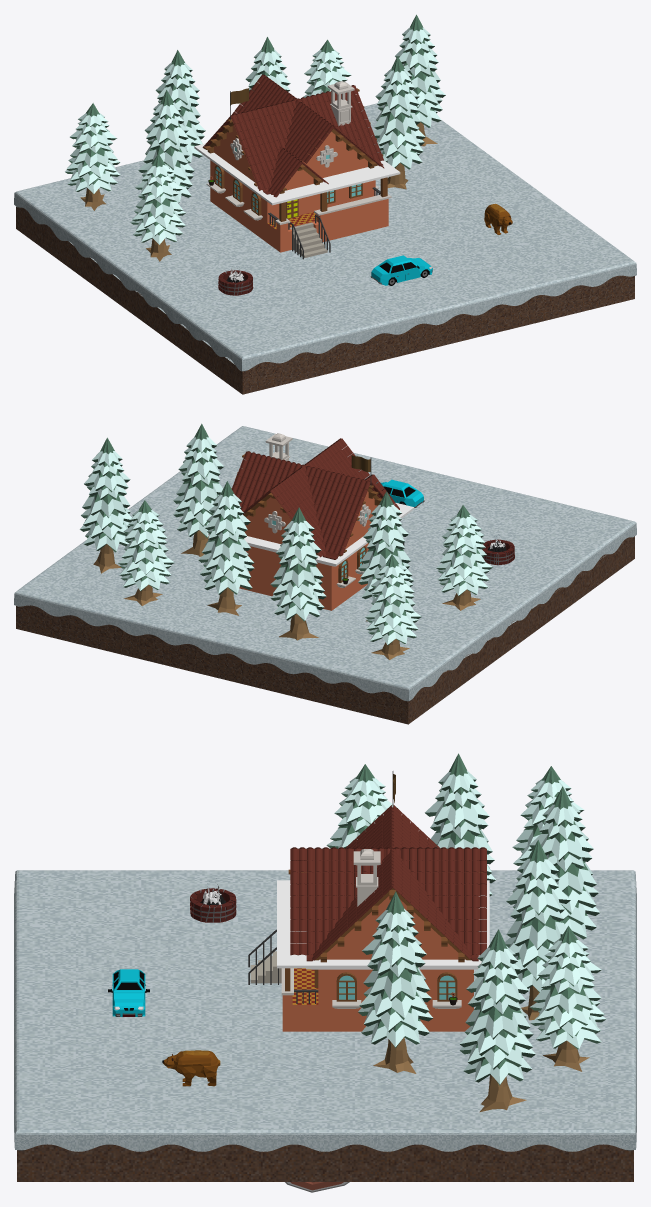
3 views of the same model, one above another, from view 1: azimuth 30°, elevation 25°; view 2: azimuth 150°, elevation 25°; view 3: azimuth 270°, elevation 25° (orthographic). The views are drawn at different scales.
Visible parts, largest first — view 1: Cube.003, Cube.1141, VEHICLES_CAR, OBJRANDOM_CAMPFIRE, ANIMAL_OSO; view 2: Cube.003, Cube.1141, VEHICLES_CAR, OBJRANDOM_CAMPFIRE; view 3: Cube.003, Cube.1141, VEHICLES_CAR, OBJRANDOM_CAMPFIRE, ANIMAL_OSO.
Part boxes in pixels (box(x1,y1,x2,y2)): Cube.003: box(14, 14, 636, 394); Cube.1141: box(194, 74, 400, 259); VEHICLES_CAR: box(370, 255, 432, 285); OBJRANDOM_CAMPFIRE: box(218, 269, 253, 295); ANIMAL_OSO: box(484, 203, 512, 234); Cube.003: box(14, 423, 636, 724); Cube.1141: box(208, 433, 414, 610); VEHICLES_CAR: box(376, 479, 424, 508); OBJRANDOM_CAMPFIRE: box(482, 539, 514, 565); Cube.003: box(14, 753, 636, 1181); Cube.1141: box(248, 771, 489, 1031); VEHICLES_CAR: box(108, 969, 149, 1016); OBJRANDOM_CAMPFIRE: box(190, 884, 236, 922); ANIMAL_OSO: box(162, 1050, 220, 1086).
Bounding box in the file's own units: 4040 × 2469 × 4040.
44 materials, 3 textured.
